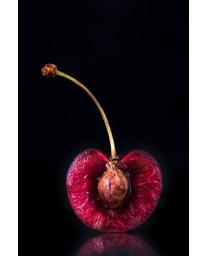cherry: (66, 147, 162, 233)
